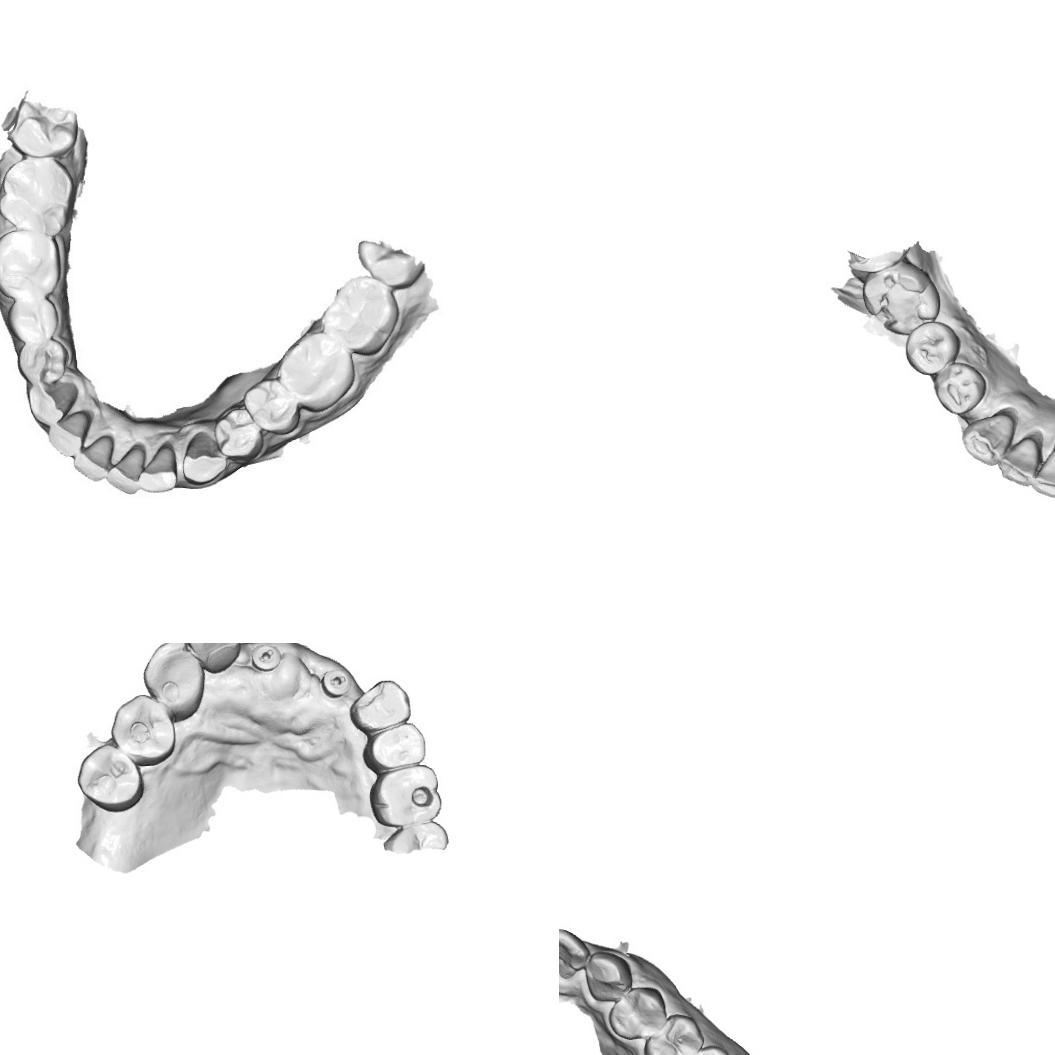canine: (139, 643, 207, 722), (960, 410, 1016, 467), (584, 950, 634, 1004), (25, 376, 76, 428), (180, 428, 225, 486), (282, 644, 319, 686)
implant_minus: (318, 667, 352, 699), (249, 643, 283, 672)
incisor: (994, 432, 1045, 490), (103, 440, 147, 495), (137, 440, 177, 498), (46, 412, 92, 458), (183, 643, 241, 675), (559, 925, 592, 981), (73, 438, 111, 484), (1031, 444, 1055, 501)
molar: (858, 257, 942, 340), (319, 272, 396, 358), (280, 330, 354, 416), (0, 155, 75, 233), (367, 762, 443, 829), (0, 227, 67, 299), (383, 820, 449, 850)
premolar: (108, 693, 178, 768), (74, 742, 145, 814), (605, 984, 669, 1042), (348, 678, 412, 735), (361, 721, 427, 774), (903, 320, 963, 377), (930, 361, 990, 416), (7, 292, 61, 346), (641, 1011, 706, 1055), (16, 336, 73, 385), (251, 382, 298, 430), (218, 407, 262, 458)
